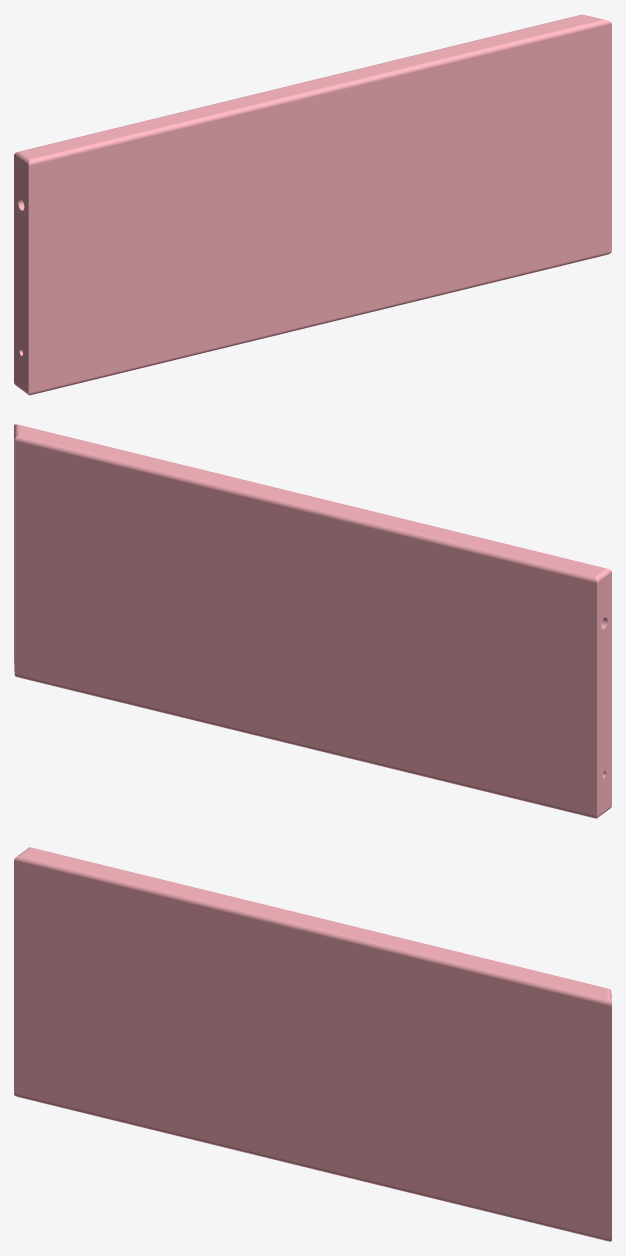
Rendered from step1.glb.
3 renders of one model, top to bottom at view 1: azimuth 30°, elevation 25°; view 2: azimuth 150°, elevation 25°; view 3: azimuth 330°, elevation 25°, orthographic. The views are drawn at different scales.
Parts seen in each view (by area): view 1: 6; view 2: 6; view 3: 6.
Boxes of the visible parts, x1,y1,x2,y2 form: 6: [14, 14, 611, 395]; 6: [14, 424, 611, 818]; 6: [14, 847, 611, 1241].
Size of what is drawn, in the model's own units: 5.54 by 2.14 by 0.2448.
